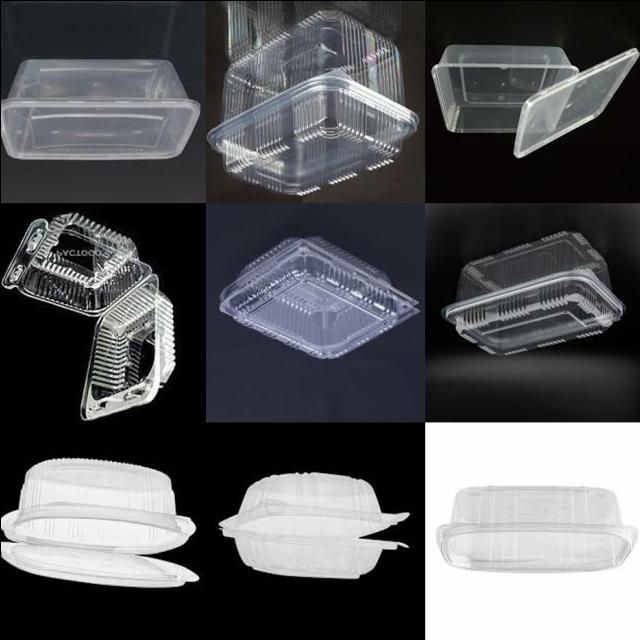plastik: (207, 9, 417, 195), (1, 212, 174, 418), (0, 458, 198, 587), (219, 237, 419, 358), (442, 231, 623, 353), (0, 58, 199, 159), (219, 473, 407, 578), (435, 486, 636, 571), (512, 48, 638, 156), (430, 44, 580, 133)
